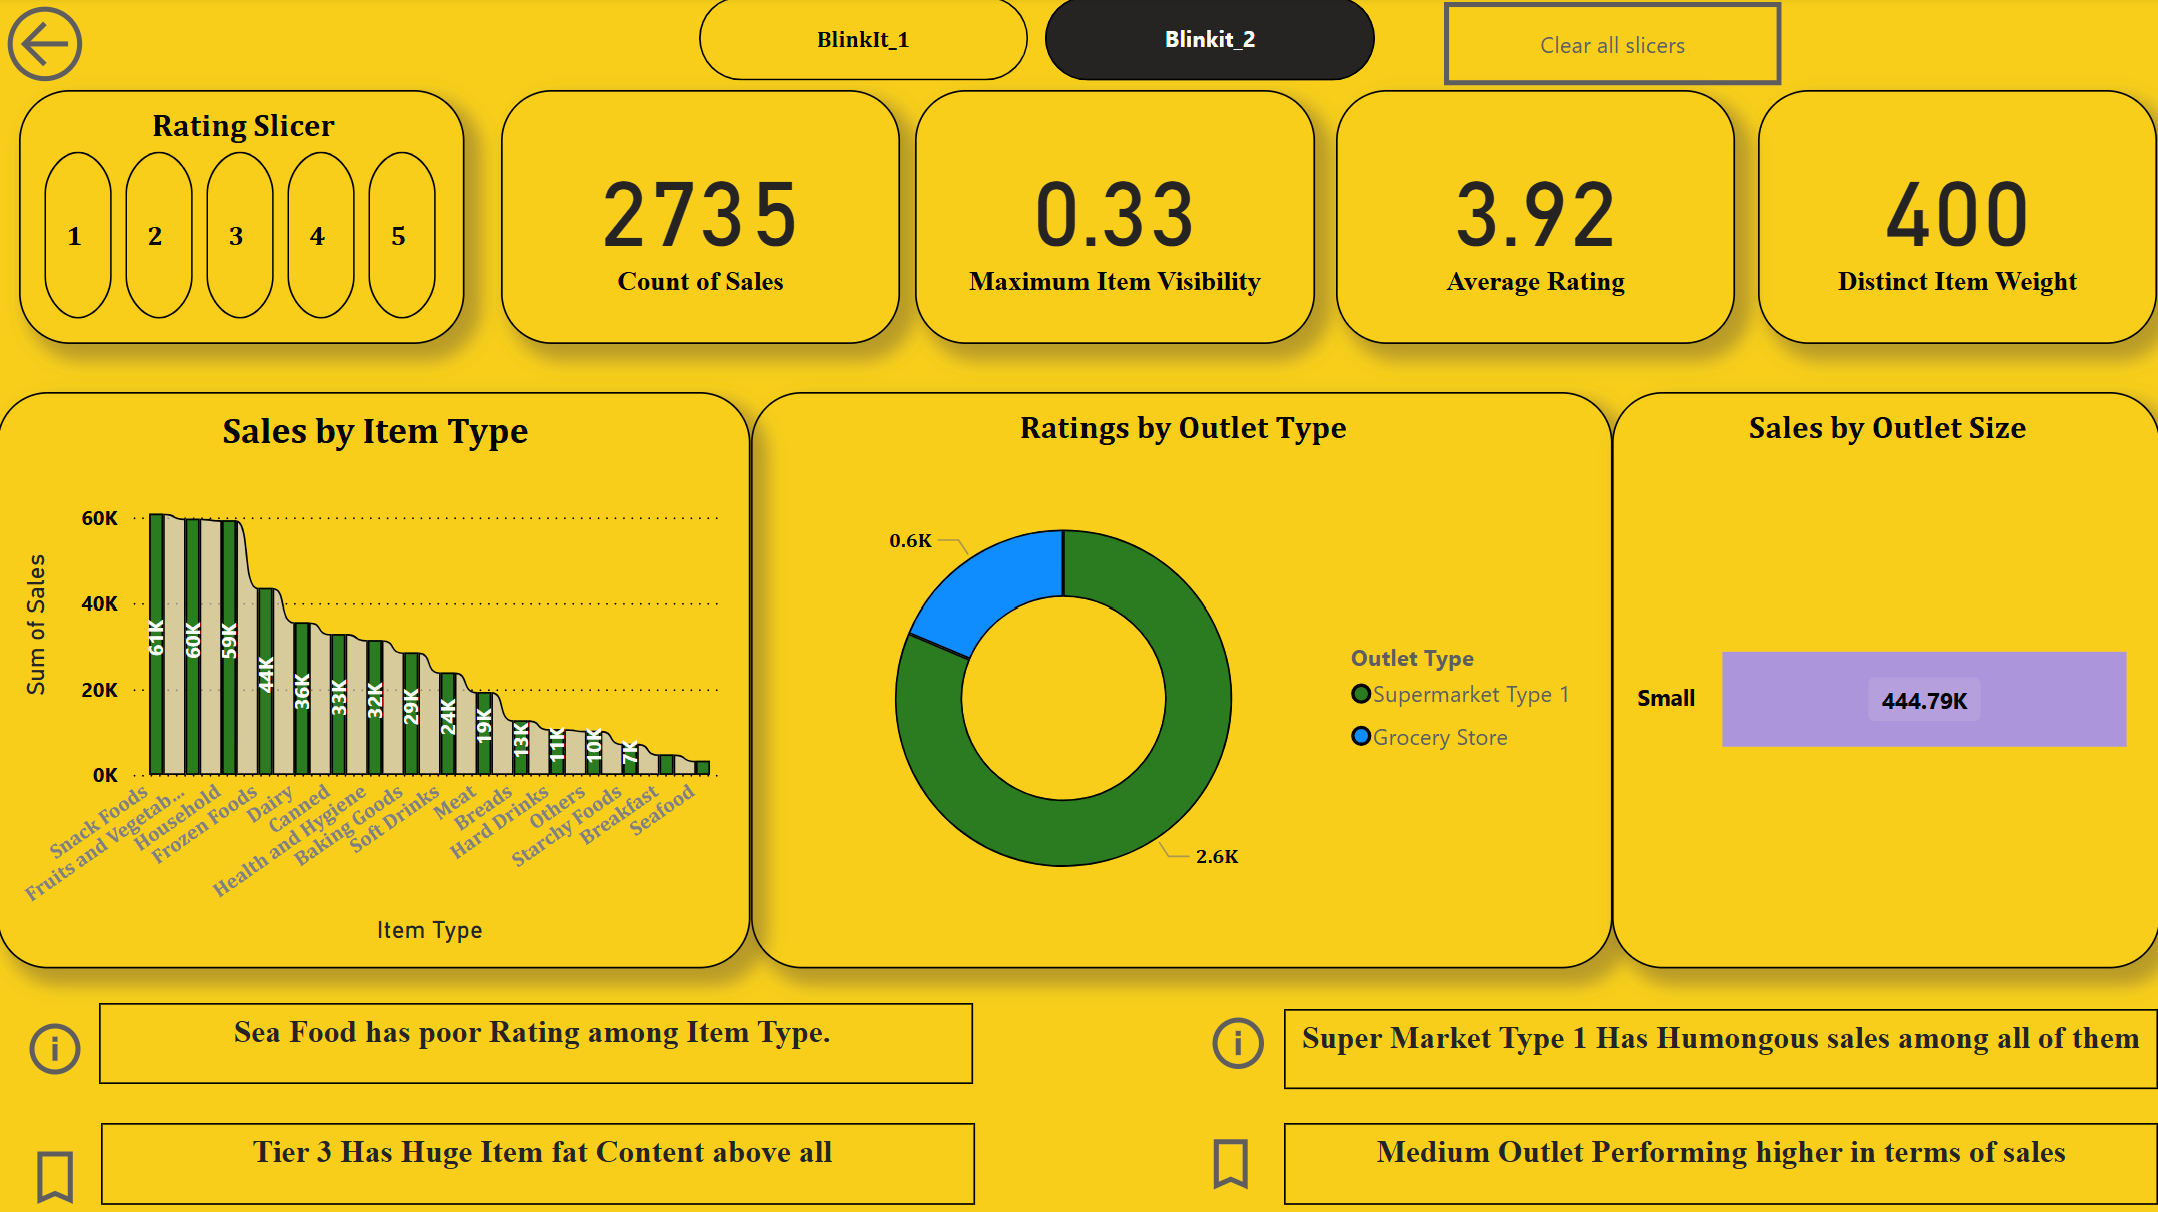

This screenshot's page, from the dashboard's own definition file:
{"tool":"powerbi","page":{"name":"Blinkit_2","canvas":[1280,720],"ordinal":1},"visuals":[{"type":"advancedSlicerVisual","fields":{"Values":["BlinkIT Grocery Data.Rating"]},"box":[13.2,56.1,264.2,150.6],"z":0},{"type":"card","fields":{"Values":["Count(BlinkIT Grocery Data.Sales)"]},"box":[298.5,56.1,236.4,150.6],"z":4000},{"type":"card","fields":{"Values":["BlinkIT Grocery Data.Max Visibility"]},"box":[544.2,56.1,236.4,150.6],"z":5000},{"type":"card","fields":{"Values":["Count(BlinkIT Grocery Data.Item Weight)"]},"box":[1043.6,56.1,236.4,150.6],"z":6000},{"type":"card","fields":{"Values":["Avg(BlinkIT Grocery Data.Rating)"]},"box":[792.6,56.1,236.4,150.6],"z":7000},{"type":"donutChart","title":" Ratings by Outlet Type","fields":{"Y":["CountNonNull(BlinkIT Grocery Data.Rating)"],"Category":["BlinkIT Grocery Data.Outlet Type"]},"box":[446.5,235.1,509.9,340.8],"z":8000},{"type":"actionButton","box":[0,0,60.8,56.8],"z":9000},{"type":"ribbonChart","title":"Sales by Item Type","fields":{"Category":["BlinkIT Grocery Data.Item Type"],"Y":["Sum(BlinkIT Grocery Data.Sales)"]},"box":[0,235.1,446.5,340.8],"z":10000},{"type":"funnel","title":"Sales by Outlet Size","fields":{"Y":["Sum(BlinkIT Grocery Data.Sales)"],"Category":["BlinkIT Grocery Data.Outlet Size"]},"box":[956.4,235.1,325,340.8],"z":11000},{"type":"pageNavigator","box":[416.1,0,400.2,50.2],"z":12000},{"type":"actionButton","box":[714.7,599.4,47.1,40.6],"z":13000},{"type":"textbox","box":[762.1,599.7,517.9,47.4],"z":14000},{"type":"actionButton","box":[14.6,679,40.6,40.6],"z":15000},{"type":"textbox","box":[61.7,667.6,518.2,48.7],"z":16000},{"type":"actionButton","box":[14.2,603.3,40.3,40.3],"z":17000},{"type":"textbox","box":[60.3,596.1,518,48],"z":18000},{"type":"actionButton","box":[711.5,672.5,50.4,39],"z":19000},{"type":"textbox","box":[761.8,667.6,518.2,48.7],"z":20000},{"type":"actionButton","box":[856.5,4.1,200.1,49.3],"z":21000}]}

Visuals, with their boxes in screenshot pixels (x1, y1, x2, y2), scaled from the page's 1280x720 canvas onto the 2158x1212 screenshot:
advancedSlicerVisual - BlinkIT Grocery Data.Rating: bbox(22, 94, 468, 348)
card - Count(BlinkIT Grocery Data.Sales): bbox(503, 94, 902, 348)
card - BlinkIT Grocery Data.Max Visibility: bbox(917, 94, 1316, 348)
card - Count(BlinkIT Grocery Data.Item Weight): bbox(1759, 94, 2157, 348)
card - Avg(BlinkIT Grocery Data.Rating): bbox(1336, 94, 1735, 348)
" Ratings by Outlet Type" donutChart: bbox(753, 396, 1612, 969)
actionButton: bbox(0, 0, 103, 96)
"Sales by Item Type" ribbonChart: bbox(0, 396, 753, 969)
"Sales by Outlet Size" funnel: bbox(1612, 396, 2157, 969)
pageNavigator: bbox(702, 0, 1376, 85)
actionButton: bbox(1205, 1009, 1284, 1077)
textbox: bbox(1285, 1009, 2157, 1089)
actionButton: bbox(25, 1143, 93, 1211)
textbox: bbox(104, 1124, 978, 1206)
actionButton: bbox(24, 1016, 92, 1083)
textbox: bbox(102, 1003, 975, 1084)
actionButton: bbox(1200, 1132, 1285, 1198)
textbox: bbox(1284, 1124, 2157, 1206)
actionButton: bbox(1444, 7, 1781, 90)
